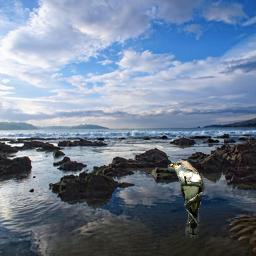Cuckoo: (167, 160, 205, 238)
